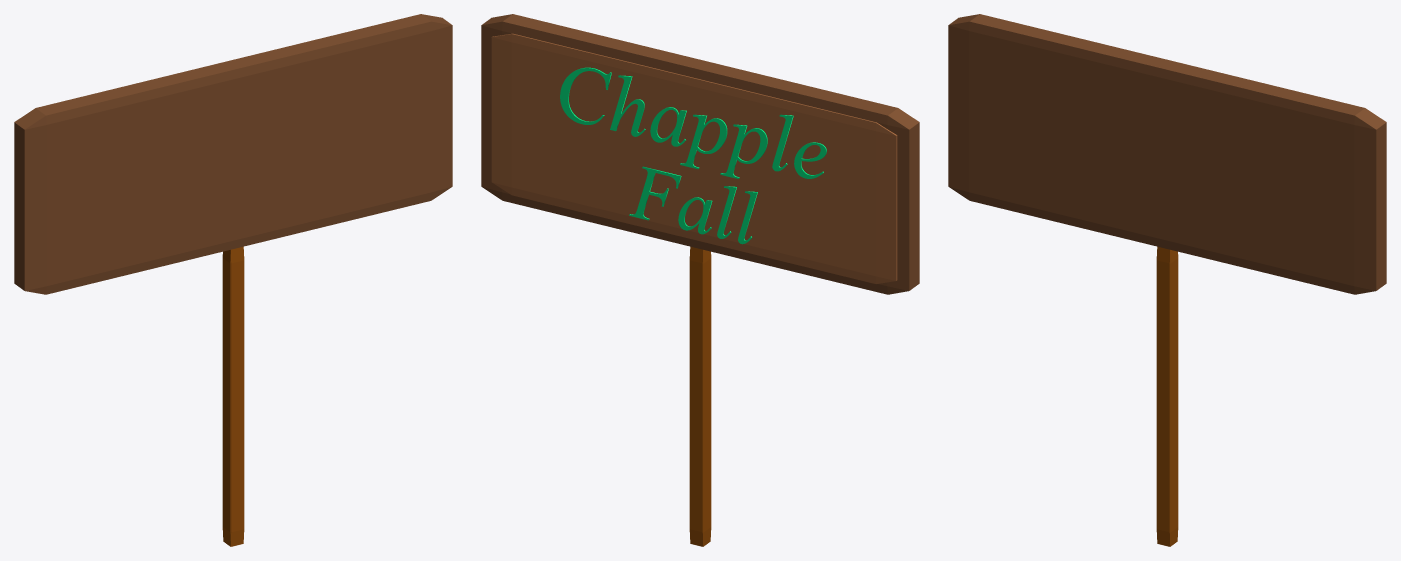
Rendered from Chapple Fall Sign.glb.
The picture shows the model from 3 angles, left to right: view 1: azimuth 30°, elevation 25°; view 2: azimuth 150°, elevation 25°; view 3: azimuth 330°, elevation 25°; orthographic projection.
Visible parts, largest first — view 1: Cube.006, Chapple Fall Sign; view 2: Cube.005, Cube.006, Chapple Fall Sign, Cabbit Catcher Text.003, Cabbit Catcher Text.002; view 3: Cube.006, Chapple Fall Sign.
Part boxes in pixels (x1=…): Cube.006: x1=14, y1=14, x2=452, y2=294; Chapple Fall Sign: x1=222, y1=246, x2=244, y2=546; Cube.005: x1=491, y1=33, x2=897, y2=283; Cube.006: x1=481, y1=14, x2=919, y2=294; Chapple Fall Sign: x1=689, y1=246, x2=711, y2=546; Cabbit Catcher Text.003: x1=560, y1=67, x2=826, y2=178; Cabbit Catcher Text.002: x1=629, y1=166, x2=757, y2=244; Cube.006: x1=948, y1=14, x2=1386, y2=294; Chapple Fall Sign: x1=1156, y1=246, x2=1178, y2=546.
Size of the model in its own units: 6 by 6.4 by 0.318.
